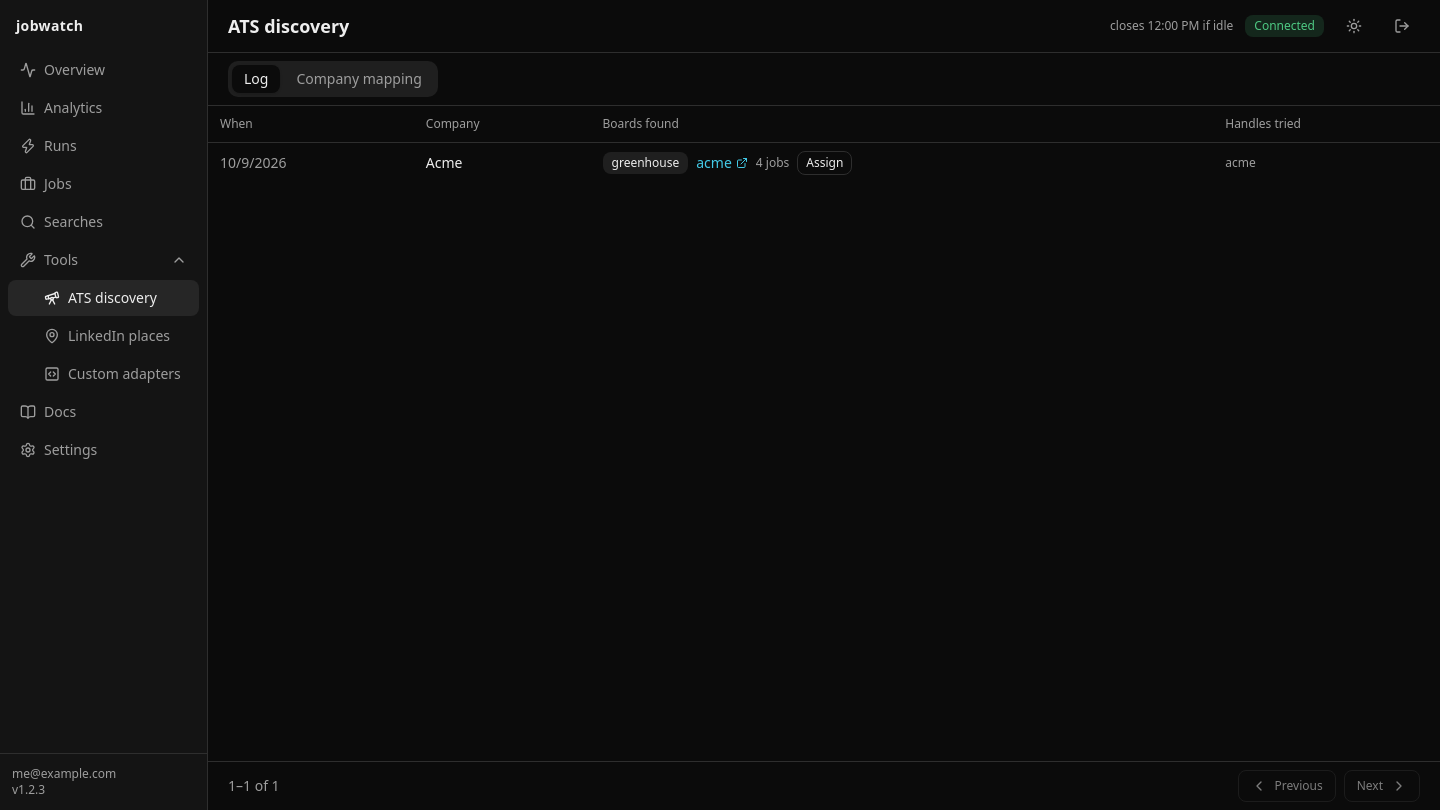
Test: ATS discovery page › shows the refusal when the company already has a board on that ATS
Click the button with aria-label "Assign greenhouse acme to Acme": (825, 162) [797,150,852,174]
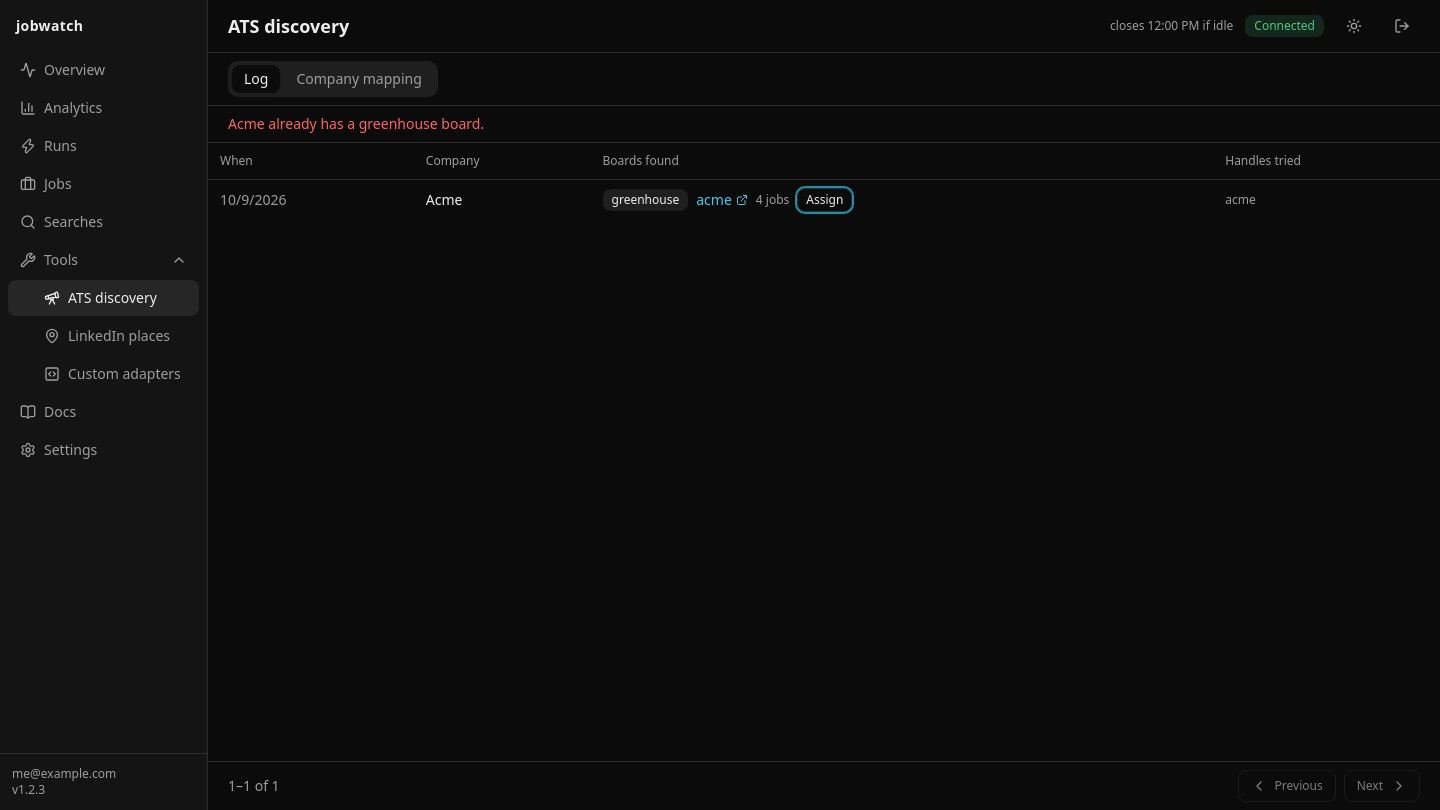
expect the message reads "Acme already has a greenhouse board.": met, box [228,114,484,133]
